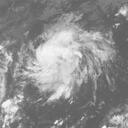cyclone: (29, 30, 90, 93)
